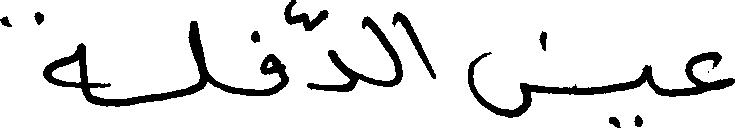X: (0, 7, 89, 106), (467, 47, 530, 122), (308, 5, 357, 96), (258, 0, 288, 100), (368, 7, 400, 91), (686, 47, 734, 100), (402, 9, 435, 83), (188, 16, 208, 99), (640, 60, 653, 127)
